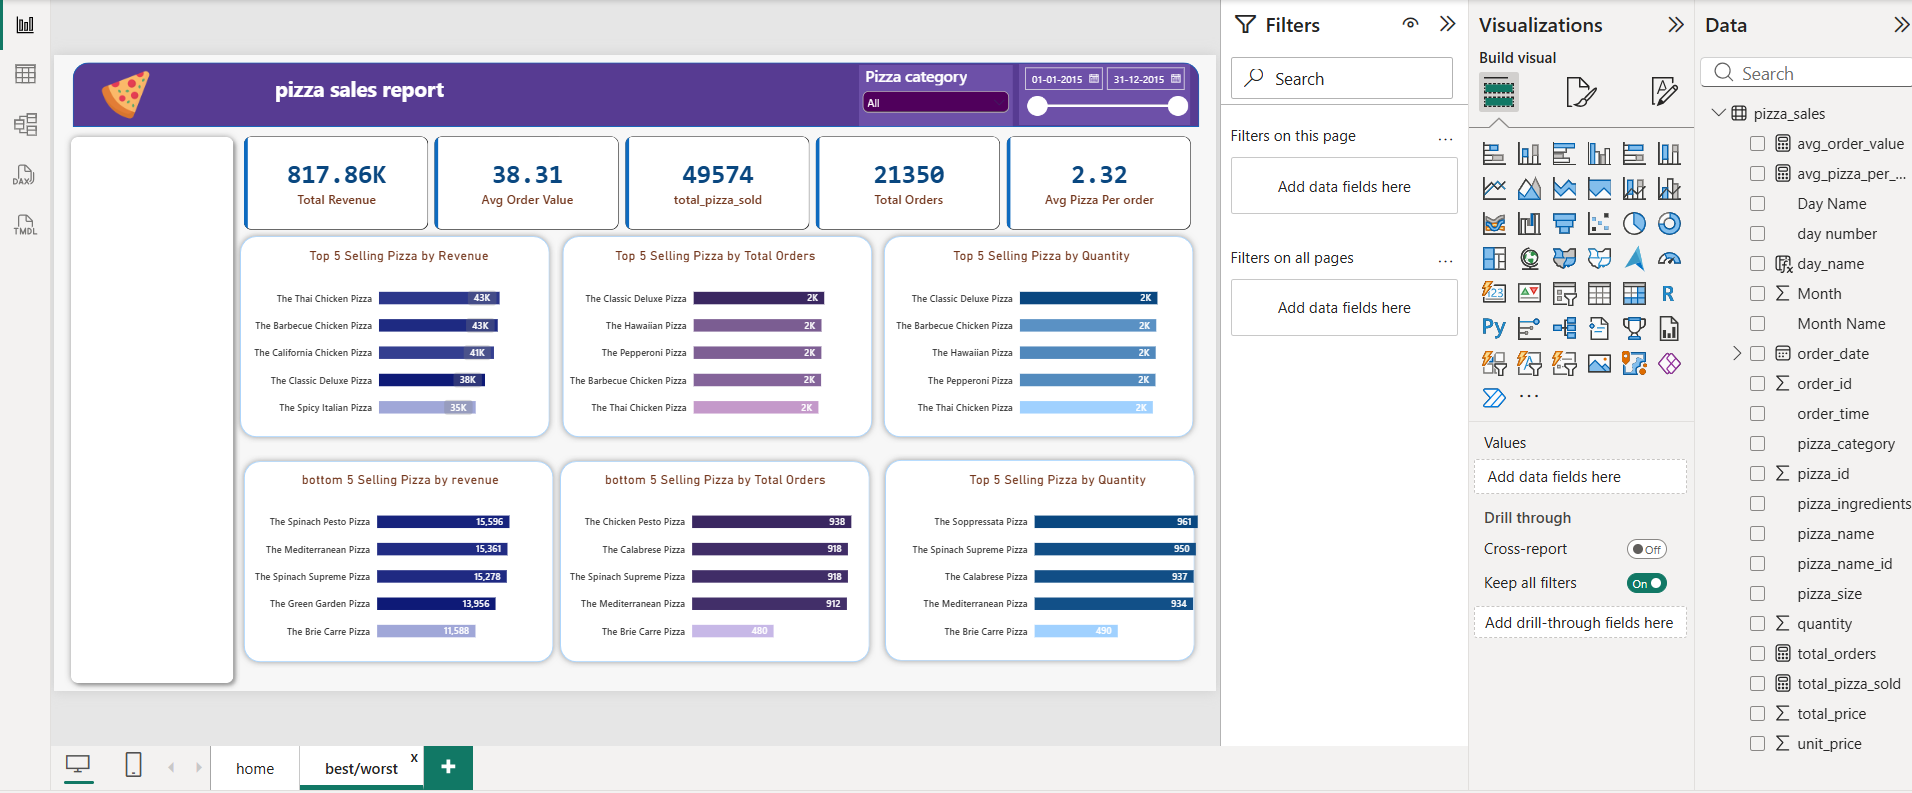

The dashboard page shown, as its layout file describes it:
{"tool":"powerbi","page":{"name":"best/worst","canvas":[1500,820],"ordinal":1},"visuals":[{"type":"shape","box":[23.9,9.9,1453.5,83.1],"z":0},{"type":"textbox","title":"pizza sales","box":[156,26,433.2,50.6],"z":1000},{"type":"image","box":[50,20,84,64],"z":2000},{"type":"cardVisual","title":"Total Revenue","fields":{"Data":["Sum(pizza_sales.total_price)","pizza_sales.avg_order_value","pizza_sales.total_pizza_sold","pizza_sales.total_orders","pizza_sales.avg_pizza_per_order"]},"box":[233.8,93,1245.3,143.8],"z":3000},{"type":"shape","box":[232.4,225.4,415,275],"z":4000},{"type":"shape","box":[12.9,96.8,227.4,722.6],"z":5000},{"type":"slicer","fields":{"Values":["pizza_sales.order_date"]},"box":[1245.2,11.3,221,79],"z":8000},{"type":"shape","box":[648.4,225.8,415,275],"z":9000},{"type":"shape","box":[1062.9,225.8,415,275],"z":10000},{"type":"barChart","title":"Top 5 Selling Pizza by Revenue","fields":{"Category":["pizza_sales.pizza_name"],"Y":["Sum(pizza_sales.total_price)"]},"box":[240.3,233.9,410,260],"z":11000},{"type":"shape","box":[237.1,516.1,415,275],"z":12000},{"type":"barChart","title":"bottom 5 Selling Pizza by revenue","fields":{"Category":["pizza_sales.pizza_name"],"Y":["Sum(pizza_sales.total_price)"]},"box":[241.9,522.6,410,260],"z":13000},{"type":"barChart","title":"Top 5 Selling Pizza by Total Orders","fields":{"Category":["pizza_sales.pizza_name"],"Y":["pizza_sales.total_orders"]},"box":[648.4,233.9,410,260],"z":14000},{"type":"shape","box":[645.2,516.1,415,275],"z":15000},{"type":"barChart","title":"bottom 5 Selling Pizza by Total Orders","fields":{"Category":["pizza_sales.pizza_name"],"Y":["pizza_sales.total_orders"]},"box":[648.4,522.6,410,260],"z":16000},{"type":"shape","box":[1064.5,514.5,415,275],"z":17000},{"type":"barChart","title":"Top 5 Selling Pizza by Quantity","fields":{"Category":["pizza_sales.pizza_name"],"Y":["Sum(pizza_sales.quantity)"]},"box":[1069.4,233.9,410,260],"z":18000},{"type":"barChart","title":"Top 5 Selling Pizza by Quantity","fields":{"Category":["pizza_sales.pizza_name"],"Y":["Sum(pizza_sales.quantity)"]},"box":[1090.3,522.6,410,260],"z":19000},{"type":"slicer","fields":{"Values":["pizza_sales.pizza_category"]},"box":[1038,12.7,198.6,78.9],"z":19001}]}

Visuals, with their boxes on the page's 1500x820 design canvas (x1, y1, x2, y2). These are canvas units, not pixel positions in the 1912x793 screenshot, which may show the page scaled, cropped or inside an application window:
shape: [24,10,1477,93]
"pizza sales" textbox: [156,26,589,77]
image: [50,20,134,84]
"Total Revenue" cardVisual: [234,93,1479,237]
shape: [232,225,647,500]
shape: [13,97,240,819]
slicer - pizza_sales.order_date: [1245,11,1466,90]
shape: [648,226,1063,501]
shape: [1063,226,1478,501]
"Top 5 Selling Pizza by Revenue" barChart: [240,234,650,494]
shape: [237,516,652,791]
"bottom 5 Selling Pizza by revenue" barChart: [242,523,652,783]
"Top 5 Selling Pizza by Total Orders" barChart: [648,234,1058,494]
shape: [645,516,1060,791]
"bottom 5 Selling Pizza by Total Orders" barChart: [648,523,1058,783]
shape: [1064,514,1480,790]
"Top 5 Selling Pizza by Quantity" barChart: [1069,234,1479,494]
"Top 5 Selling Pizza by Quantity" barChart: [1090,523,1500,783]
slicer - pizza_sales.pizza_category: [1038,13,1237,92]
